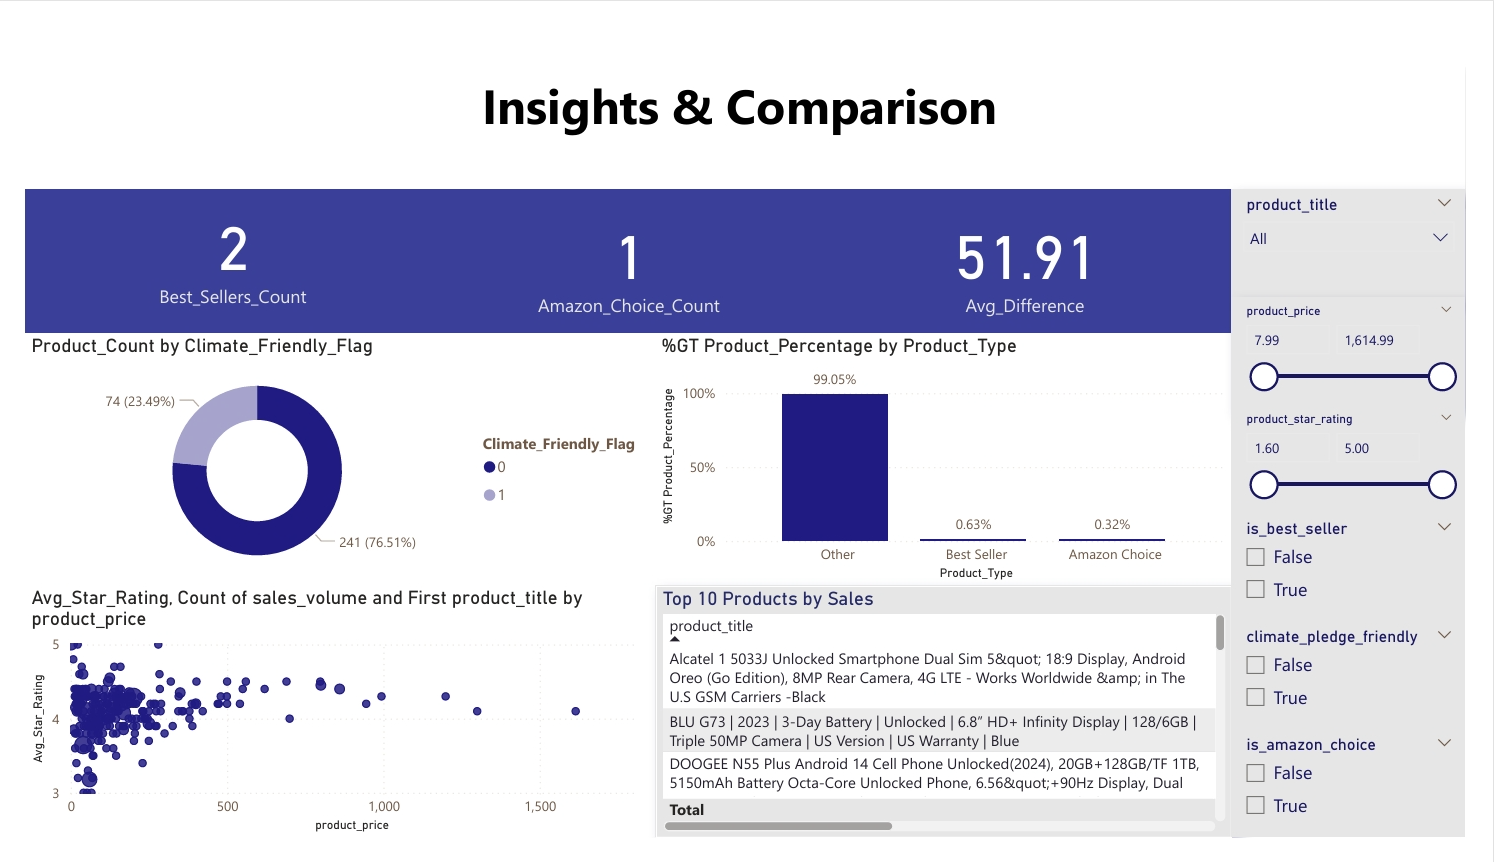

The page's visual inventory and layout, read from the dashboard file:
{"tool":"powerbi","page":{"name":"Insights & Comparison","canvas":[1280,720],"ordinal":2},"visuals":[{"type":"scatterChart","fields":{"Y":["phone search (1) (1).Avg_Star_Rating"],"X":["phone search (1) (1).product_price"],"Size":["CountNonNull(phone search (1) (1).sales_volume)"]},"box":[0,496,560,224],"z":0},{"type":"card","fields":{"Values":["phone search (1) (1).Best_Sellers_Count"]},"box":[0,128,368,144],"z":1000},{"type":"card","fields":{"Values":["phone search (1) (1).Amazon_Choice_Count"]},"box":[368,144,336,128],"z":2000},{"type":"card","fields":{"Values":["phone search (1) (1).Avg_Difference"]},"box":[704,144,368,128],"z":3000},{"type":"textbox","box":[0,0,1280,144],"z":4000},{"type":"columnChart","fields":{"Category":["phone search (1) (1).Product_Type"],"Y":["phone search (1) (1).Product_Percentage"]},"box":[560,272,512,224],"z":5000},{"type":"donutChart","fields":{"Category":["phone search (1) (1).Climate_Friendly_Flag"],"Y":["phone search (1) (1).Product_Count"]},"box":[0,272,560,224],"z":6000},{"type":"tableEx","title":"Top 10 Products by Sales","fields":{"Values":["phone search (1) (1).product_title","phone search (1) (1).sales_volume","phone search (1) (1).Avg_Star_Rating","phone search (1) (1).product_price"]},"box":[560,496,512,224],"z":7000},{"type":"slicer","fields":{"Values":["phone search (1) (1).product_title"]},"box":[1072,144,208,96],"z":8000},{"type":"slicer","fields":{"Values":["phone search (1) (1).product_price"]},"box":[1072,240,208,96],"z":9000},{"type":"slicer","fields":{"Values":["phone search (1) (1).product_star_rating"]},"box":[1072,336,208,96],"z":10000},{"type":"slicer","fields":{"Values":["phone search (1) (1).is_best_seller"]},"box":[1072,432,208,96],"z":11000},{"type":"slicer","fields":{"Values":["phone search (1) (1).climate_pledge_friendly"]},"box":[1072,528,208,96],"z":12000},{"type":"slicer","fields":{"Values":["phone search (1) (1).is_amazon_choice"]},"box":[1072,624,208,96],"z":13000}]}

Visuals, with their boxes in screenshot pixels (x1, y1, x2, y2), scaled from the page's 1280x720 canvas onto the 1494x862 screenshot:
scatterChart - phone search (1) (1).Avg_Star_Rating x phone search (1) (1).product_price: box=[0, 594, 654, 861]
card - phone search (1) (1).Best_Sellers_Count: box=[0, 153, 430, 326]
card - phone search (1) (1).Amazon_Choice_Count: box=[430, 172, 822, 326]
card - phone search (1) (1).Avg_Difference: box=[822, 172, 1251, 326]
textbox: box=[0, 0, 1493, 172]
columnChart - phone search (1) (1).Product_Type x phone search (1) (1).Product_Percentage: box=[654, 326, 1251, 594]
donutChart - phone search (1) (1).Climate_Friendly_Flag x phone search (1) (1).Product_Count: box=[0, 326, 654, 594]
"Top 10 Products by Sales" tableEx: box=[654, 594, 1251, 861]
slicer - phone search (1) (1).product_title: box=[1251, 172, 1493, 287]
slicer - phone search (1) (1).product_price: box=[1251, 287, 1493, 402]
slicer - phone search (1) (1).product_star_rating: box=[1251, 402, 1493, 517]
slicer - phone search (1) (1).is_best_seller: box=[1251, 517, 1493, 632]
slicer - phone search (1) (1).climate_pledge_friendly: box=[1251, 632, 1493, 747]
slicer - phone search (1) (1).is_amazon_choice: box=[1251, 747, 1493, 861]
